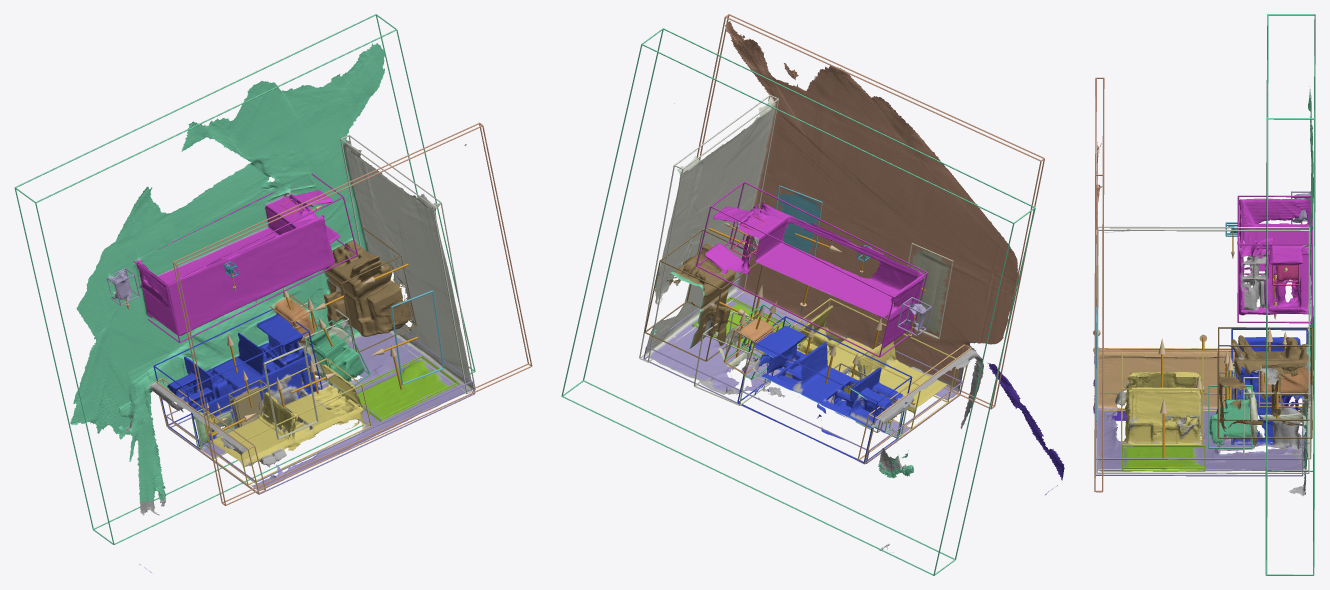
Rendered from scene_00024_01-obb.compressed.gltf.
3 renders of one model, left to right at view 1: azimuth 30°, elevation 25°; view 2: azimuth 150°, elevation 25°; view 3: azimuth 270°, elevation 25°, orthographic. The views are drawn at different scales.
Bounding box in the file's own units: 7.49 × 7.27 × 2.87.
